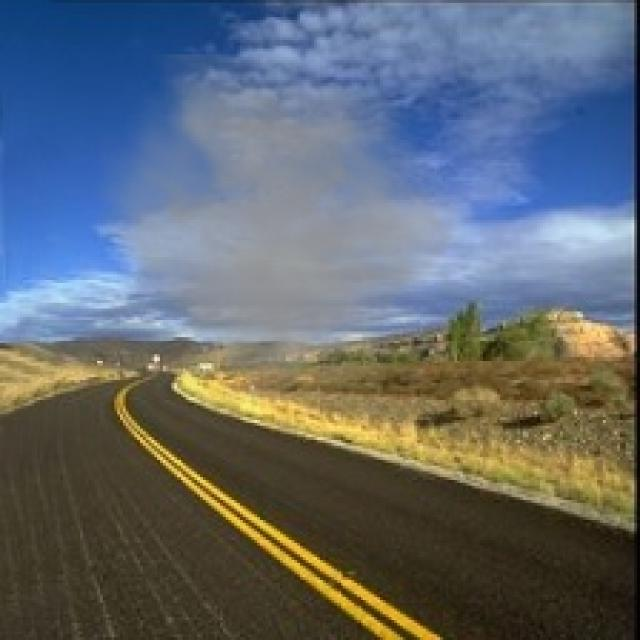smoke: (83, 54, 474, 420)
